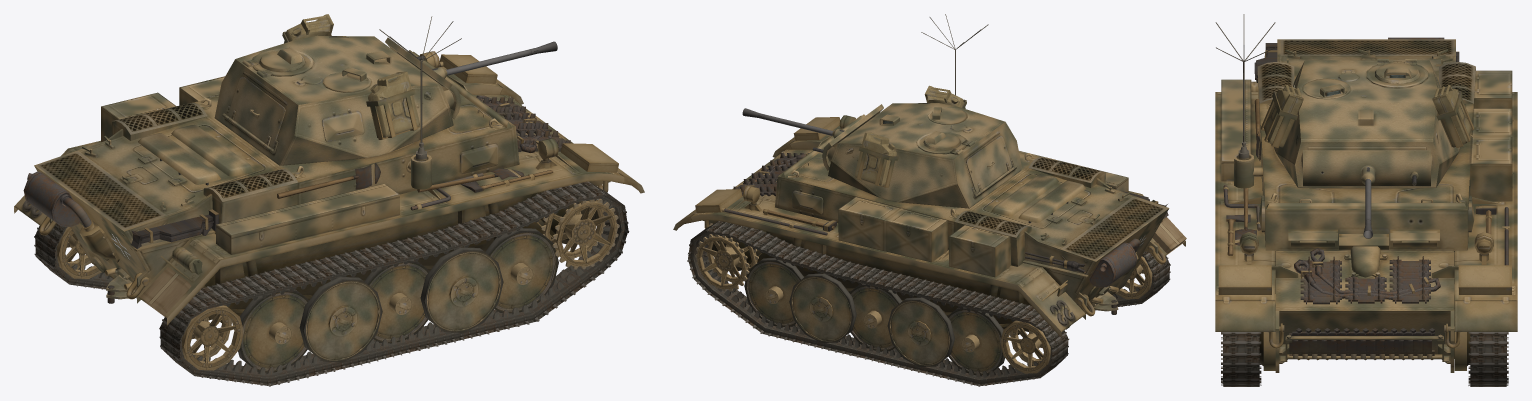
Rendered from panzer_ii_luchs.glb.
3 views of the same model, side by side, from view 1: azimuth 30°, elevation 25°; view 2: azimuth 150°, elevation 25°; view 3: azimuth 270°, elevation 25° (orthographic). The views are drawn at different scales.
Visible parts, largest first — view 1: hull.001, track.001, turret.001, grid_alpha-optiona, wheel5, wheel9, wheel11, wheel3, backthings, wheel7, extra_tower-optiona, wheel.001 (+15 smaller); view 2: hull.001, track2, turret.001, grid_alpha-optiona, wheel10, wheel6, wheel12, wheel4, wheel8, extra_tower-optiona, wheel2, backthings (+13 smaller); view 3: hull.001, turret.001, fender-optiona, grid_alpha-optiona, bow-optionc, mount.001, front-optionb, extra_tower-optiona, track2, track.001, fender-optionb, tools-optiona (+9 smaller).
Boxes of the visible parts, x1,y1,x2,y2 form: hull.001: (14,16,624,325); track.001: (159,181,629,386); turret.001: (214,35,454,165); grid_alpha-optiona: (36,102,297,229); wheel5: (420,247,503,332); wheel9: (299,277,382,362); wheel11: (238,289,308,372); wheel3: (485,228,558,313); backthings: (23,171,137,303); wheel7: (364,260,429,343); extra_tower-optiona: (282,14,419,139); wheel.001: (540,199,619,269); hull.001: (690,14,1186,337); track2: (687,221,1069,386); turret.001: (827,103,1022,208); grid_alpha-optiona: (955,157,1166,260); wheel10: (887,297,954,366); wheel6: (789,273,856,342); wheel12: (947,307,1004,375); wheel4: (744,258,803,326); wheel8: (849,283,902,351); extra_tower-optiona: (855,85,966,187); wheel2: (695,234,758,291); backthings: (1065,238,1140,329); hull.001: (1215,14,1517,372); turret.001: (1274,60,1460,188); fender-optiona: (1215,265,1517,331); grid_alpha-optiona: (1257,39,1475,103); bow-optionc: (1280,328,1448,361); mount.001: (1303,150,1430,186); front-optionb: (1300,256,1430,304); extra_tower-optiona: (1260,84,1474,147); track2: (1468,332,1508,386); track.001: (1221,332,1261,386); fender-optionb: (1458,265,1511,294); tools-optiona: (1226,43,1497,255).
Size of the model in its own units: 4.72 by 2.77 by 2.47.
Materials: 7 (7 with a texture image).
